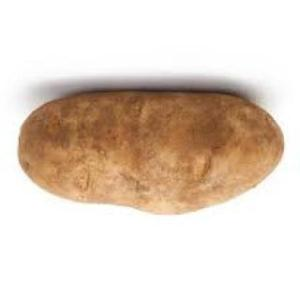potato: (18, 93, 284, 215)
